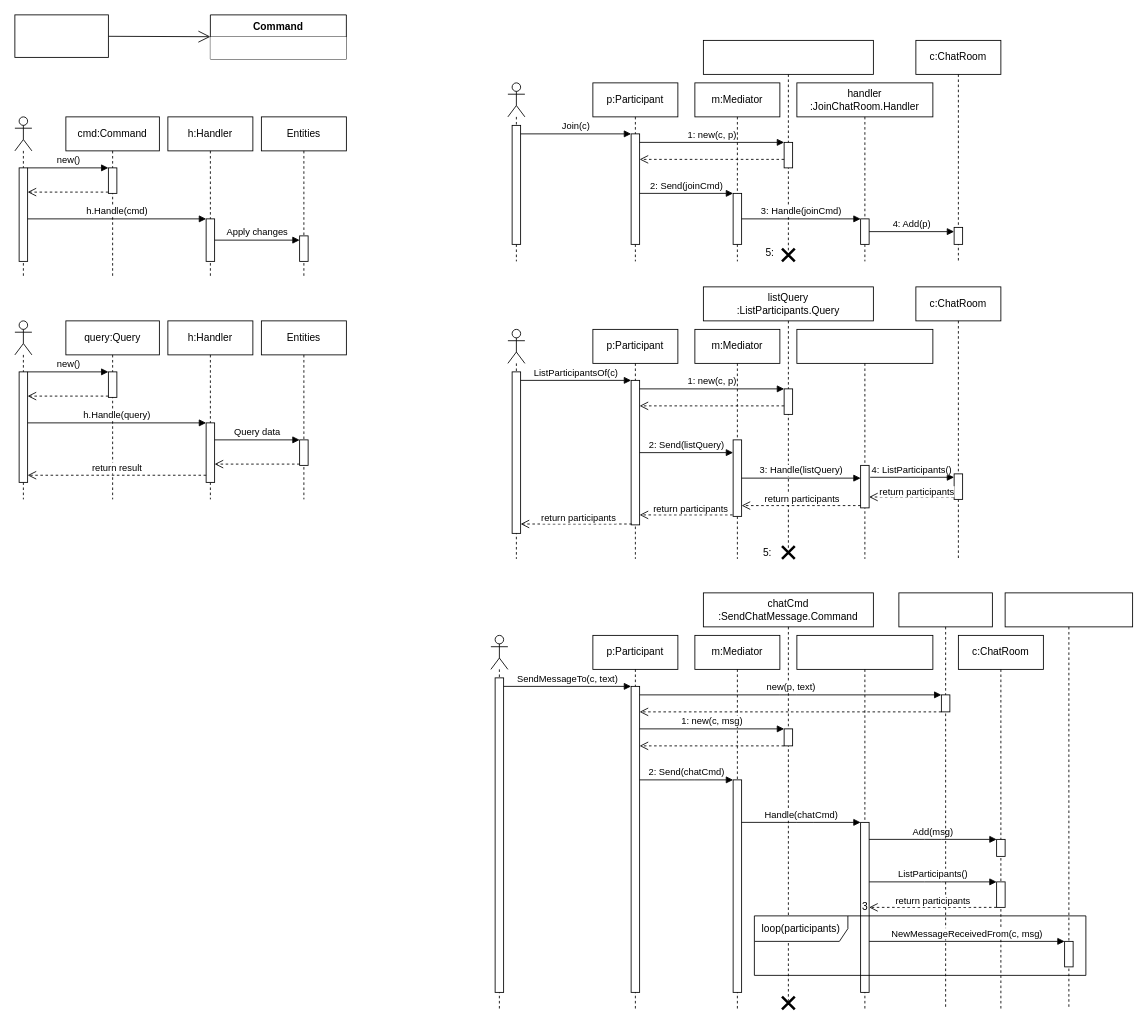
This 1148x1025 diagram has some shape labels left out. The box of each missing label's shape, as (x1, y1, x2, y2) in pixels:
+ field: type: (210, 37, 346, 59)
Consumer: (14, 14, 108, 57)
handler :ListParticipants.Handler: (796, 329, 933, 559)
handler :SendChatMessage.Handler: (796, 635, 933, 1009)
joinCmd :JoinChatRoom.Command: (703, 40, 873, 253)
msg :ChatMessage: (898, 592, 992, 1009)
participants:Participant[]: (1004, 592, 1133, 1009)
